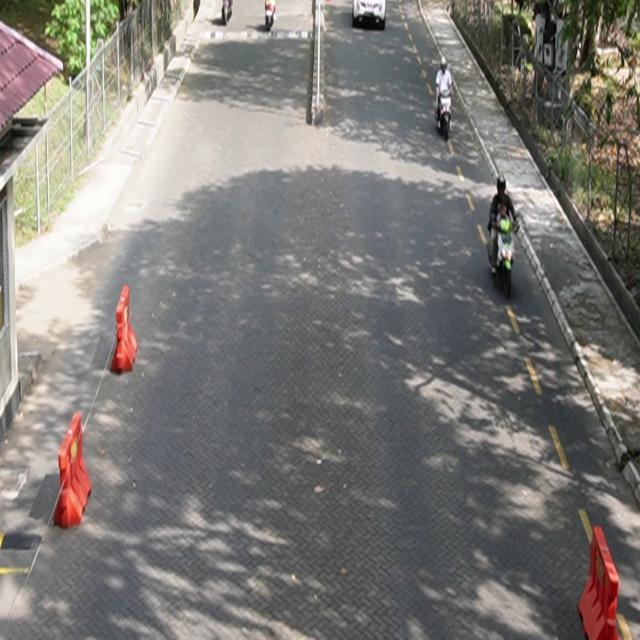car: (353, 1, 387, 30)
